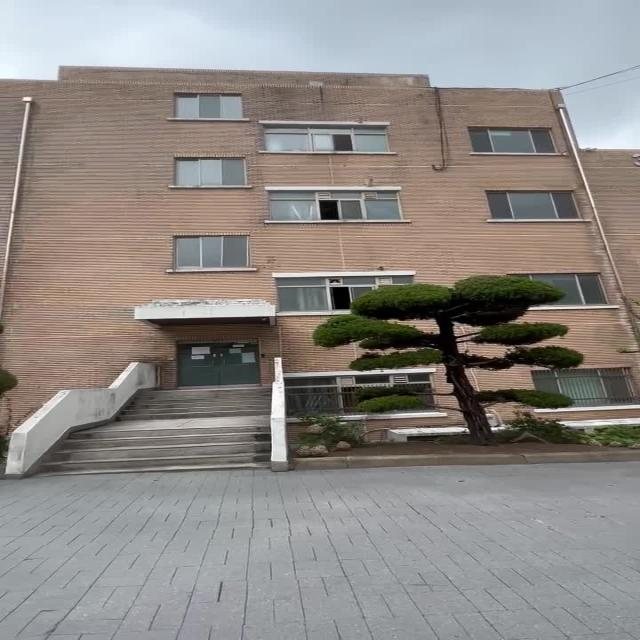building: (39, 63, 608, 295)
